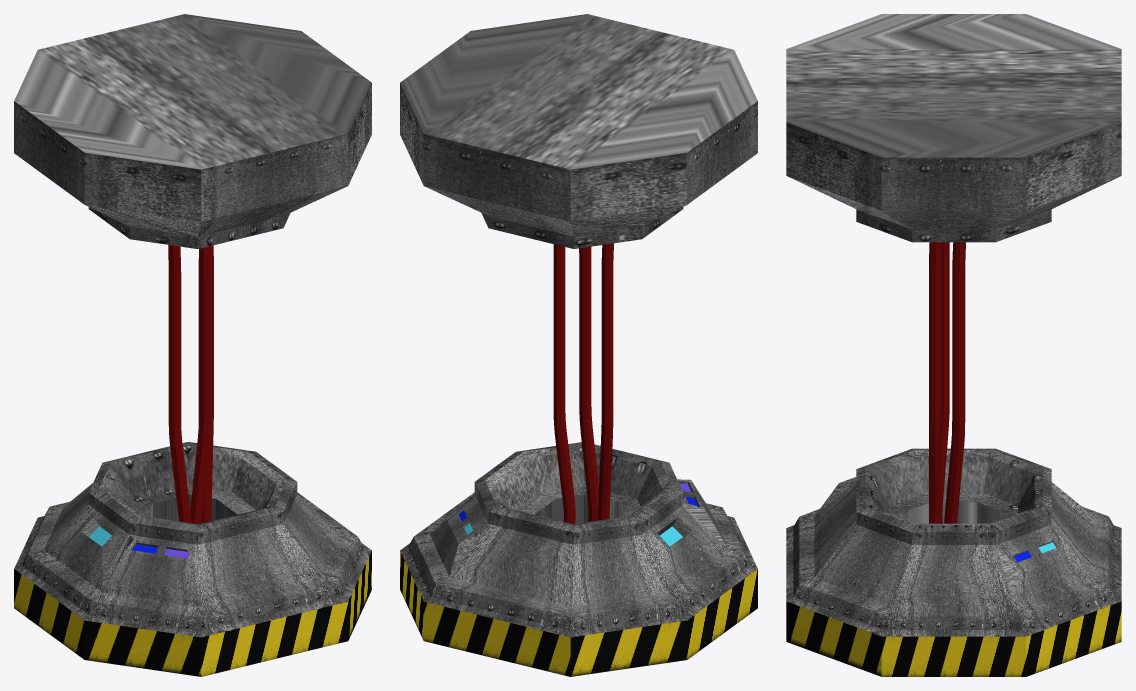
File: Core.fbx
3 renders of one model, left to right at view 1: azimuth 30°, elevation 25°; view 2: azimuth 150°, elevation 25°; view 3: azimuth 270°, elevation 25°, orthographic. The views are drawn at different scales.
Visible parts, largest first — view 1: Big Cable # 1.018; view 2: Big Cable # 1.018; view 3: Big Cable # 1.018.
Part boxes in pixels (left/top/right/bottom): Big Cable # 1.018: left=14, top=14, right=371, bottom=676; Big Cable # 1.018: left=400, top=14, right=757, bottom=676; Big Cable # 1.018: left=786, top=14, right=1121, bottom=676.
Size of the model in its own units: 53.37 by 90.51 by 52.69.
